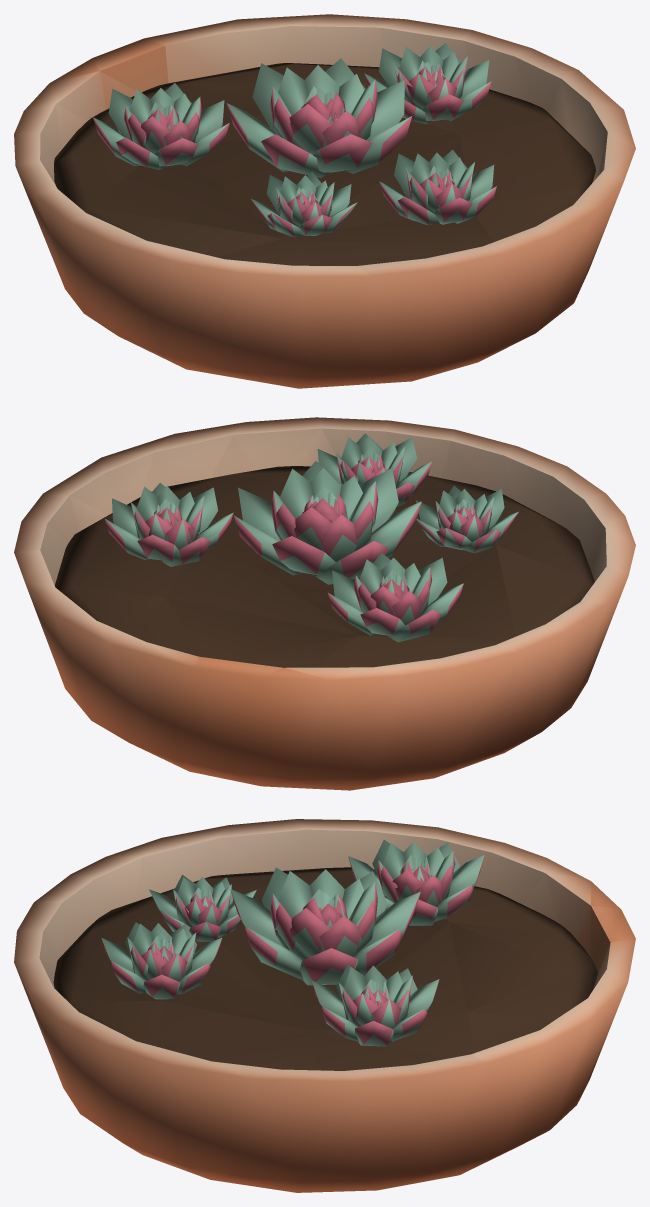
File: canopy_succulent_pot_lod1.glb
The picture shows the model from 3 angles, top to bottom: view 1: azimuth 30°, elevation 25°; view 2: azimuth 150°, elevation 25°; view 3: azimuth 270°, elevation 25°; orthographic projection.
Parts seen in each view (by area): view 1: canopy_succulent_pot.001; view 2: canopy_succulent_pot.001; view 3: canopy_succulent_pot.001.
Part boxes in pixels (x1,y1,x2,y2): canopy_succulent_pot.001: (14,14,635,388); canopy_succulent_pot.001: (14,417,635,790); canopy_succulent_pot.001: (14,819,635,1192).
Bounding box in the file's own units: 6.1 × 2.29 × 6.1.
